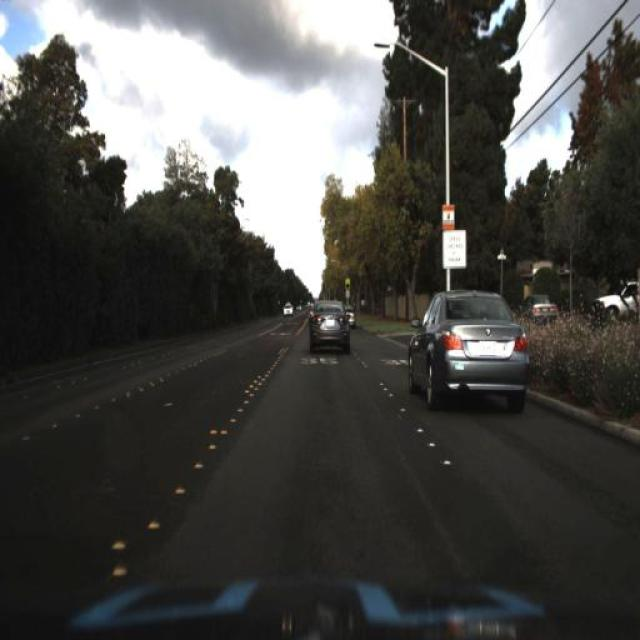car: (401, 281, 533, 415), (305, 294, 354, 354), (511, 286, 565, 335), (597, 280, 639, 320), (334, 300, 357, 330), (284, 302, 294, 316)
